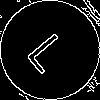L: (25, 25, 78, 76)
